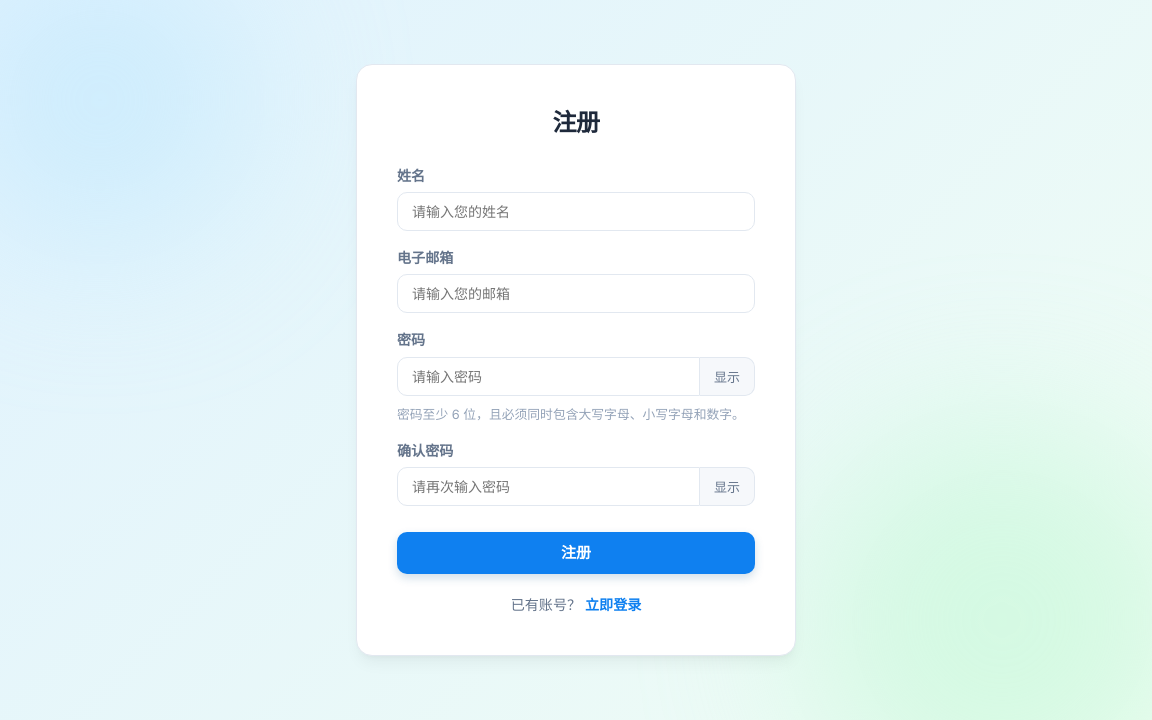
Register › 未知错误时显示通用提示
Type "张三" into the field labelled "姓名" at point(576, 212), box [397, 192, 755, 231]
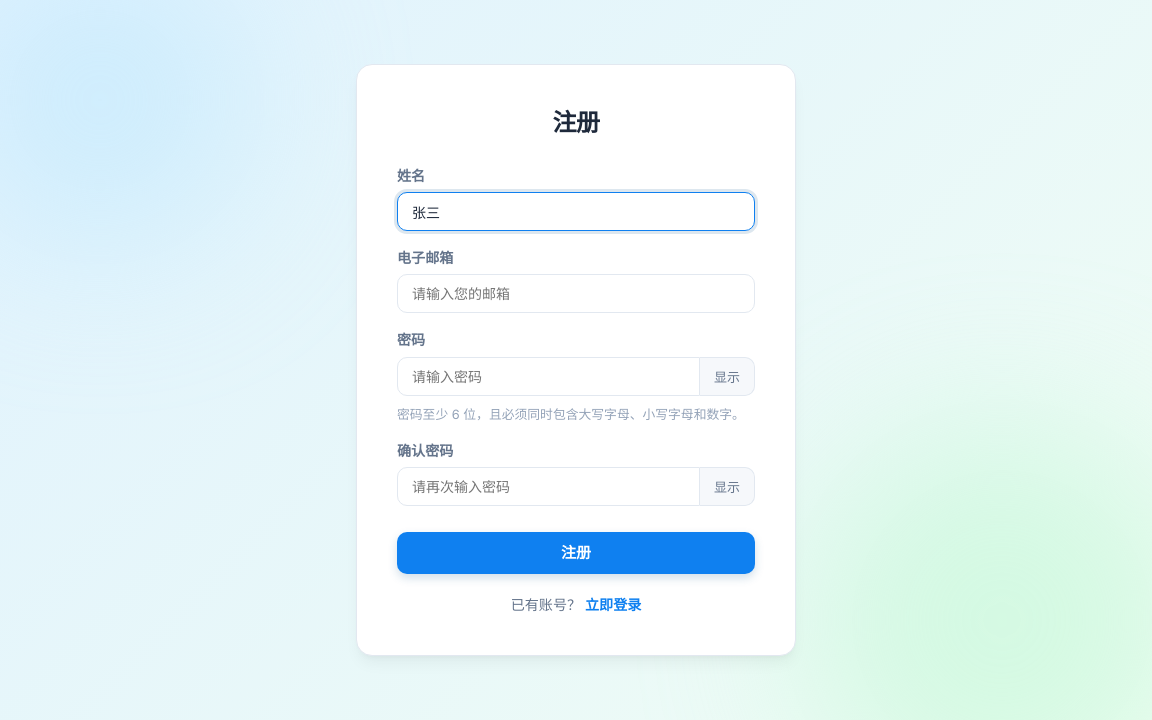
Type "a@b.com" into the field labelled "电子邮箱" at point(576, 294), box [397, 274, 755, 314]
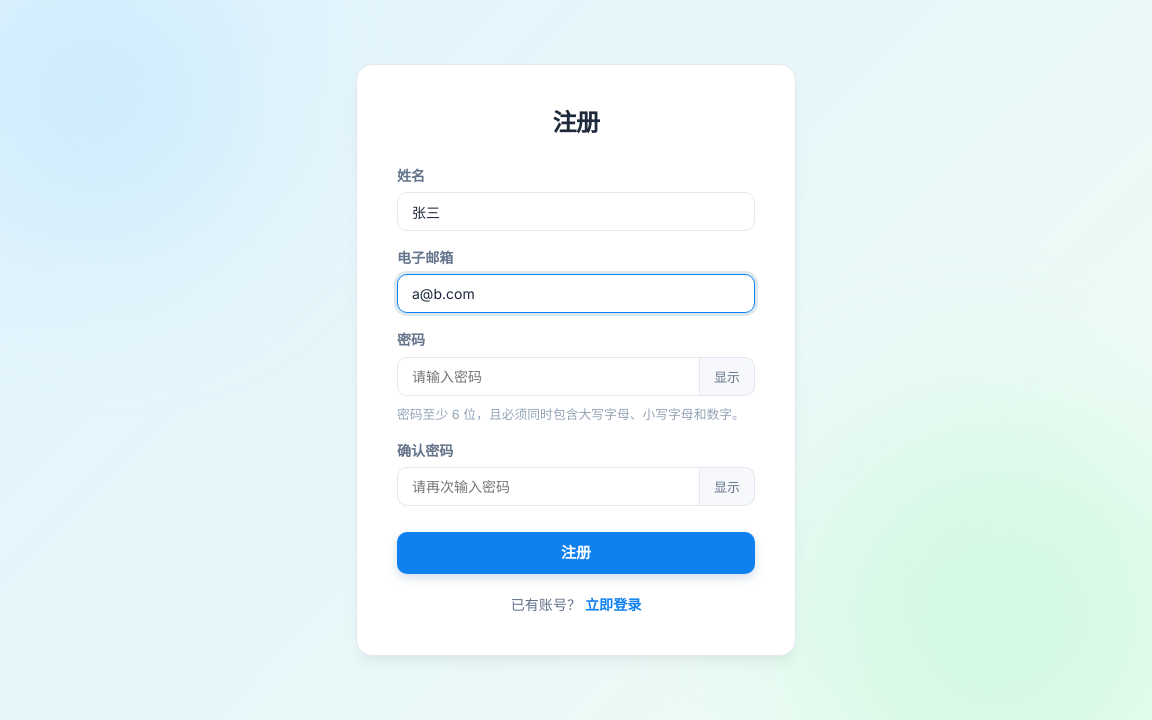
Type "Pass123!" into the password field labelled "密码" at point(548, 376), box [397, 357, 700, 396]
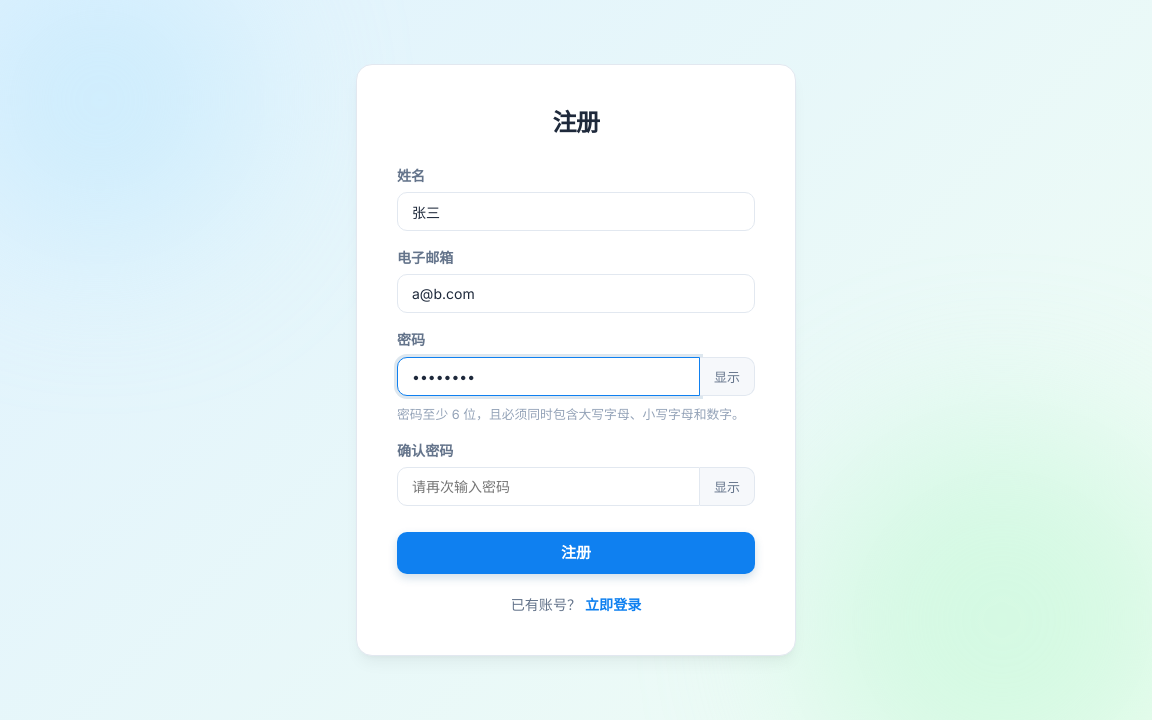
Type "Pass123!" into the password field labelled "确认密码" at point(548, 486), box [397, 467, 700, 506]
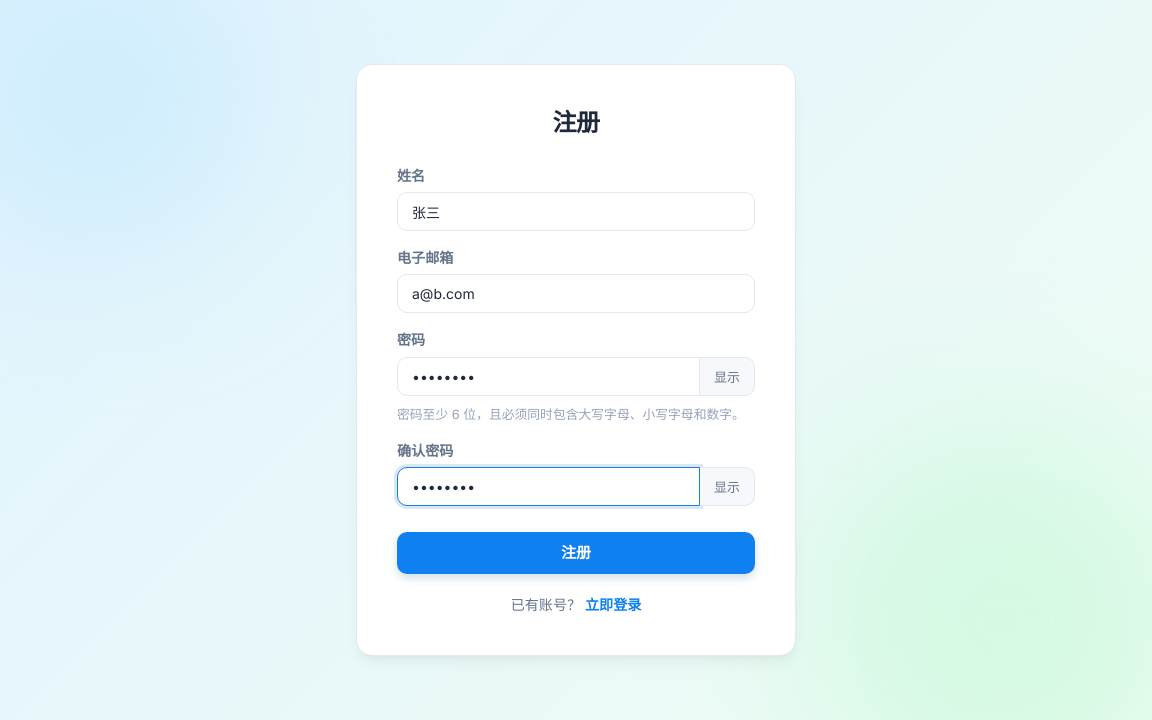
Click the button "注册" at point(576, 553), box [397, 532, 755, 574]
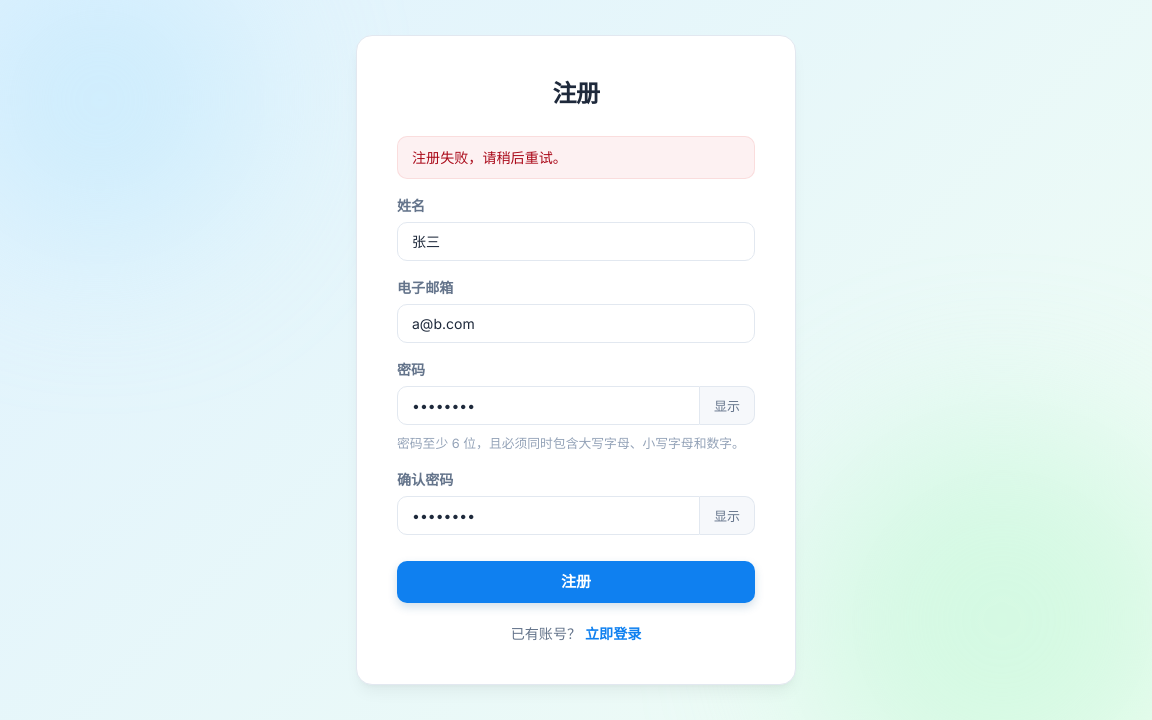
Result: the text "注册失败，请稍后重试。" is shown at [397, 136, 755, 179]
